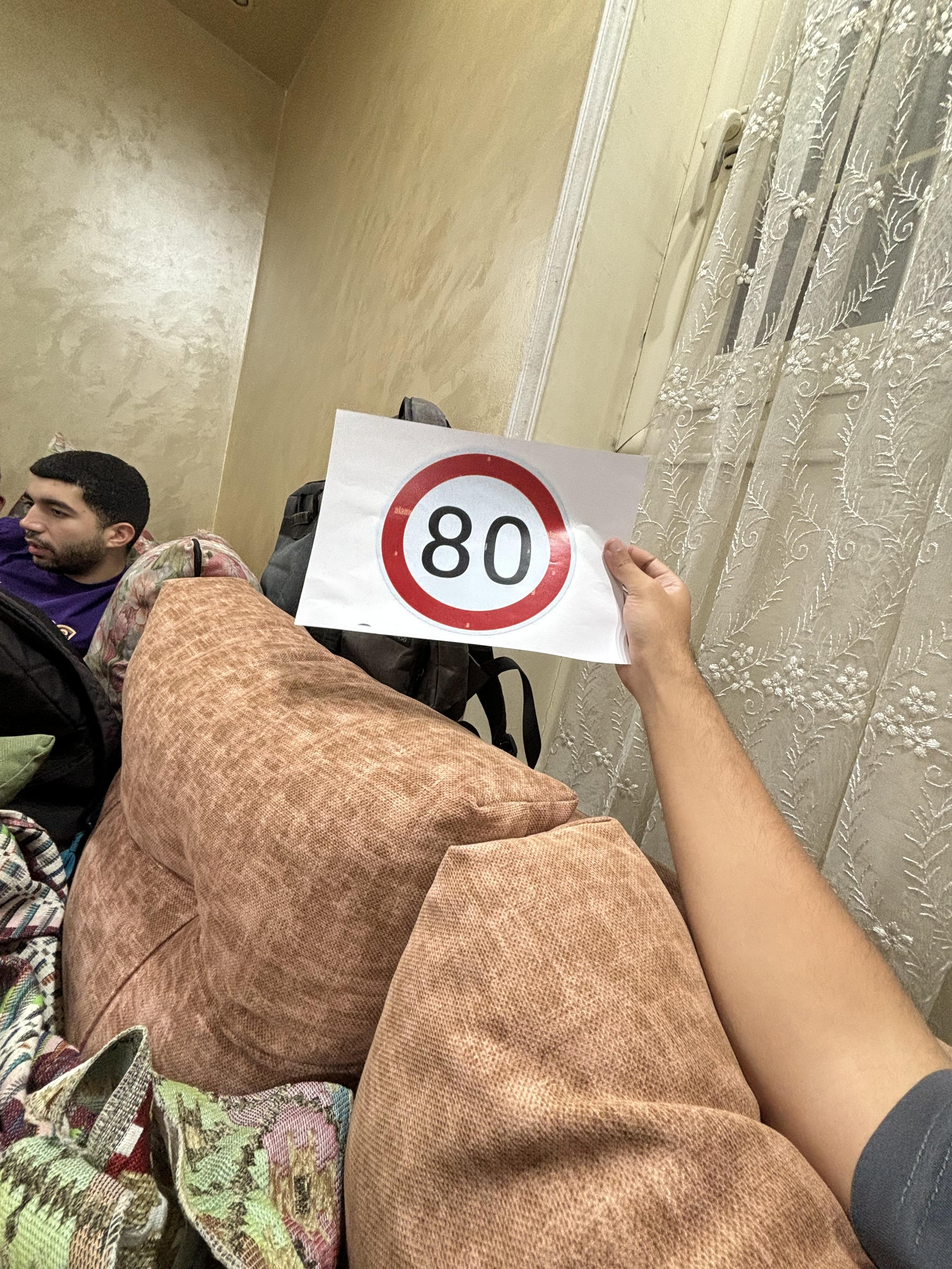80-Speed: (377, 448, 580, 631)
